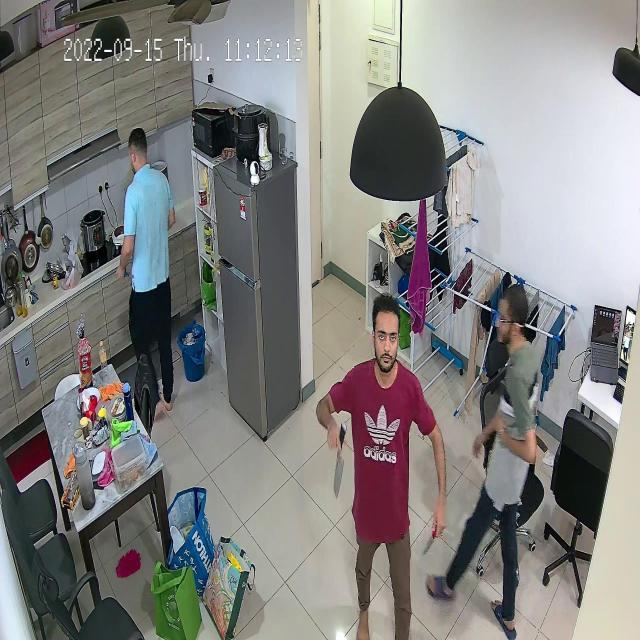Knife: (326, 420, 356, 510), (417, 520, 446, 562)
